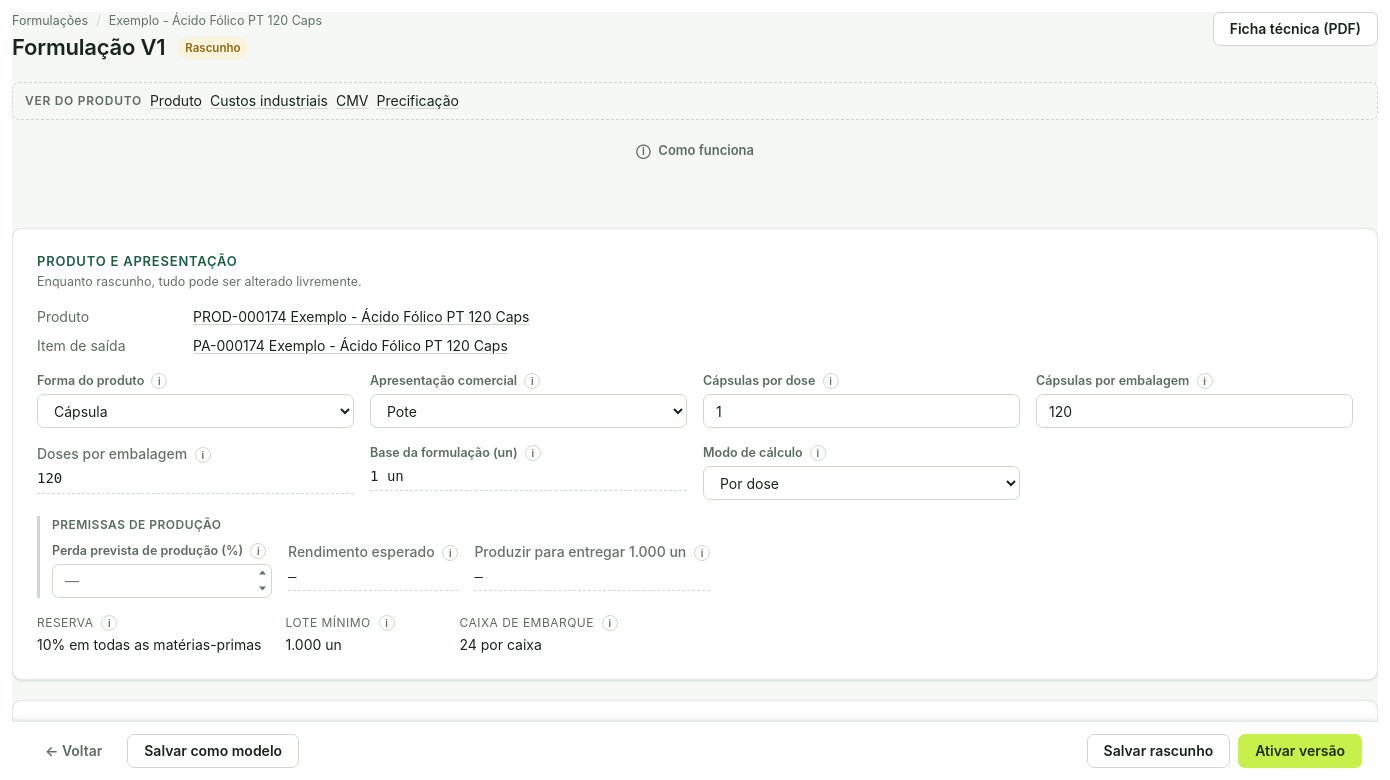
Test: Premissas de produção — perda e rendimento › a simulação diz quanto produzir para entregar 1.000, arredondando para cima
Expected: the link "PROD-000174 Exemplo - Ácido Fólico PT 120 Caps" is shown, [193, 308, 530, 325]
Expected: the text with test id "simulacao-de-lote" reads "—", [474, 568, 483, 584]
Type "4" into the field labelled "Perda prevista de produção (%) i" at (162, 581), box [52, 564, 272, 598]
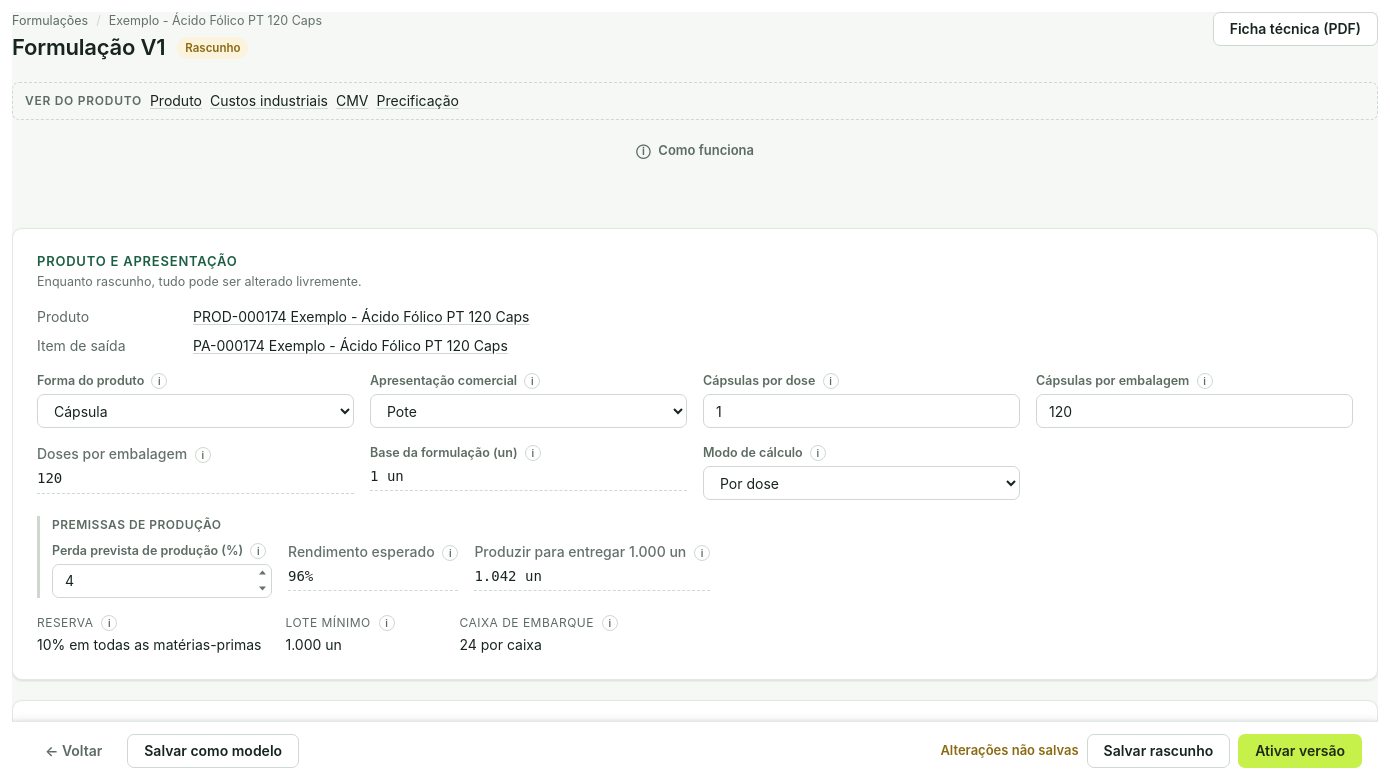
Now the text with test id "simulacao-de-lote" reads "1.042 un", box [474, 568, 542, 584]
Replace the text in the field labelled "Perda prevista de produção (%) i" with "1" at (162, 581), box [52, 564, 272, 598]
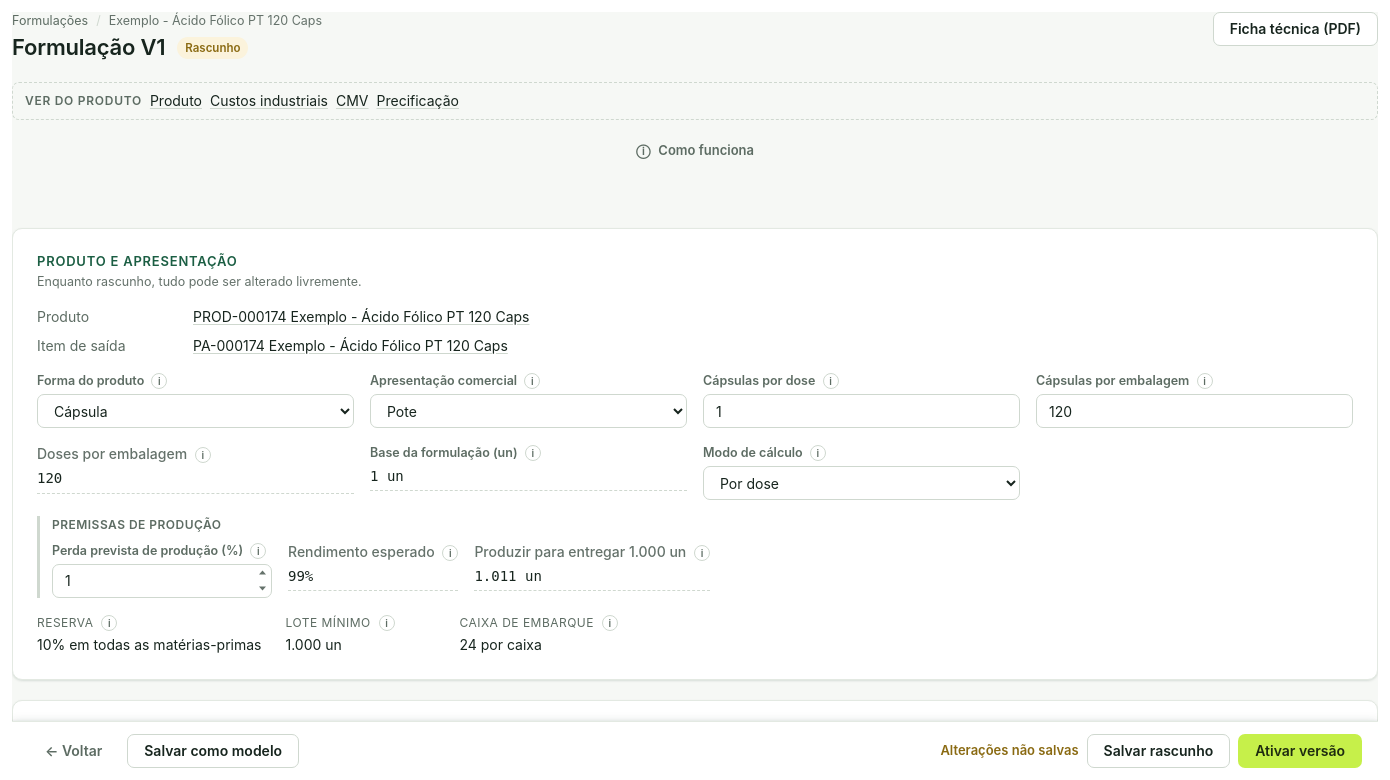
Now the text with test id "simulacao-de-lote" reads "1.011 un", box [474, 568, 542, 584]
